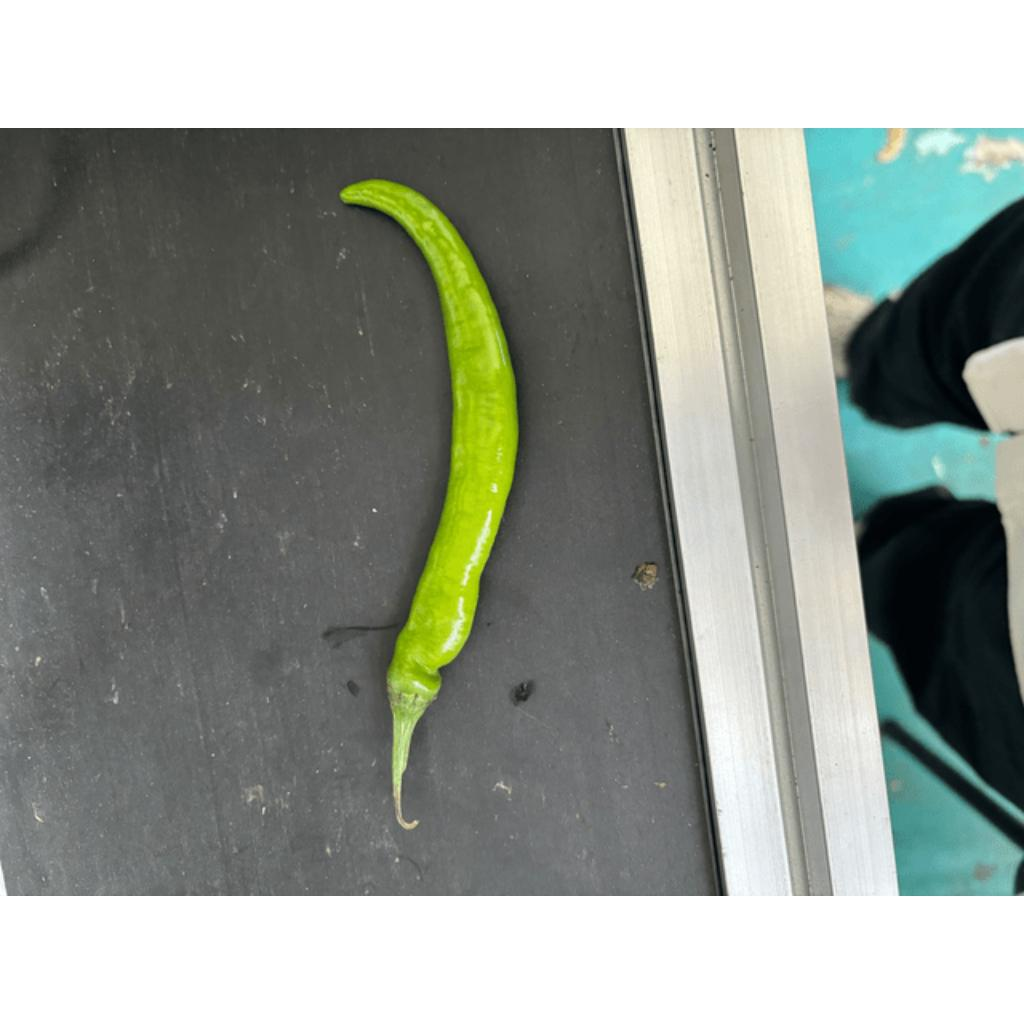chili: (336, 178, 521, 716)
